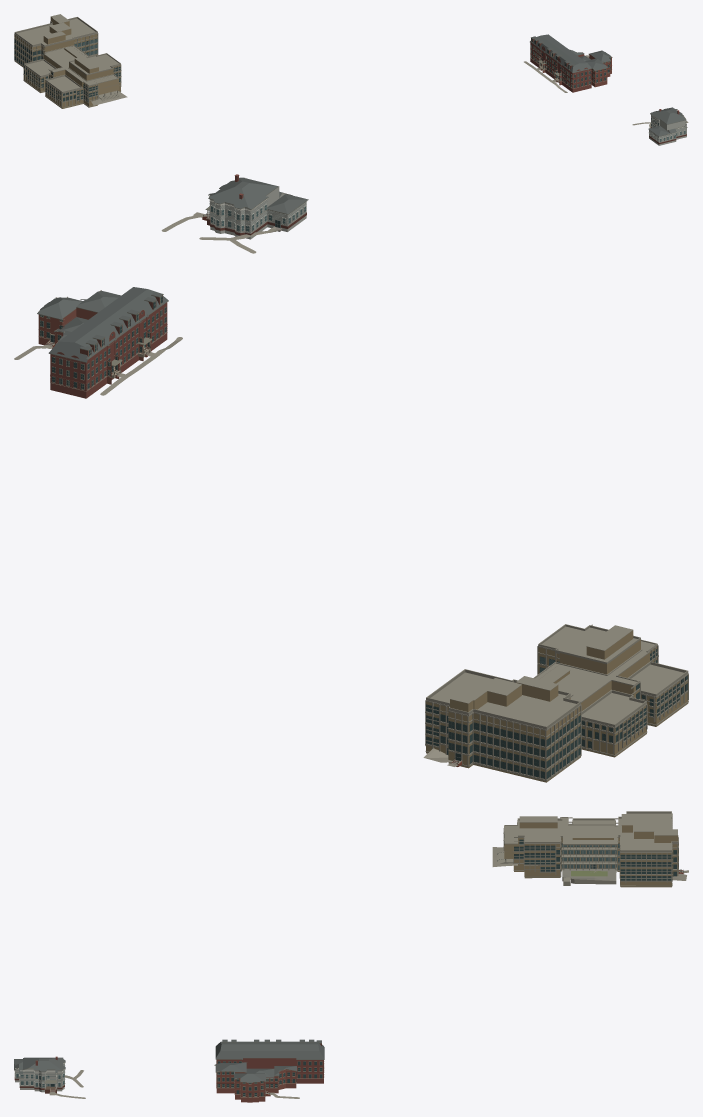
Rendered from site.glb.
3 views of the same model, one above another, from view 1: azimuth 30°, elevation 25°; view 2: azimuth 150°, elevation 25°; view 3: azimuth 270°, elevation 25° (orthographic). The views are drawn at different scales.
Parts seen in each view (by area): view 1: roof-f61e9b20, roof-556799cc, roof-e5accf83, friendly-collier-mckenzie-grounds; view 2: roof-f61e9b20, roof-556799cc, roof-e5accf83, friendly-collier-mckenzie-grounds; view 3: roof-f61e9b20, roof-556799cc, roof-e5accf83, friendly-collier-mckenzie-grounds.
Boxes of the visible parts, left/top/right/bottom form: roof-f61e9b20: left=14, top=14, right=121, bottom=108; roof-556799cc: left=530, top=34, right=612, bottom=92; roof-e5accf83: left=648, top=107, right=687, bottom=145; friendly-collier-mckenzie-grounds: left=91, top=55, right=688, bottom=132; roof-f61e9b20: left=425, top=624, right=688, bottom=782; roof-556799cc: left=37, top=287, right=168, bottom=398; roof-e5accf83: left=205, top=174, right=308, bottom=239; friendly-collier-mckenzie-grounds: left=14, top=212, right=461, bottom=766; roof-f61e9b20: left=503, top=811, right=678, bottom=887; roof-556799cc: left=215, top=1039, right=324, bottom=1102; roof-e5accf83: left=14, top=1056, right=65, bottom=1093; friendly-collier-mckenzie-grounds: left=49, top=847, right=688, bottom=1098.
Size of the model in its own units: 290 by 20.88 by 299.
